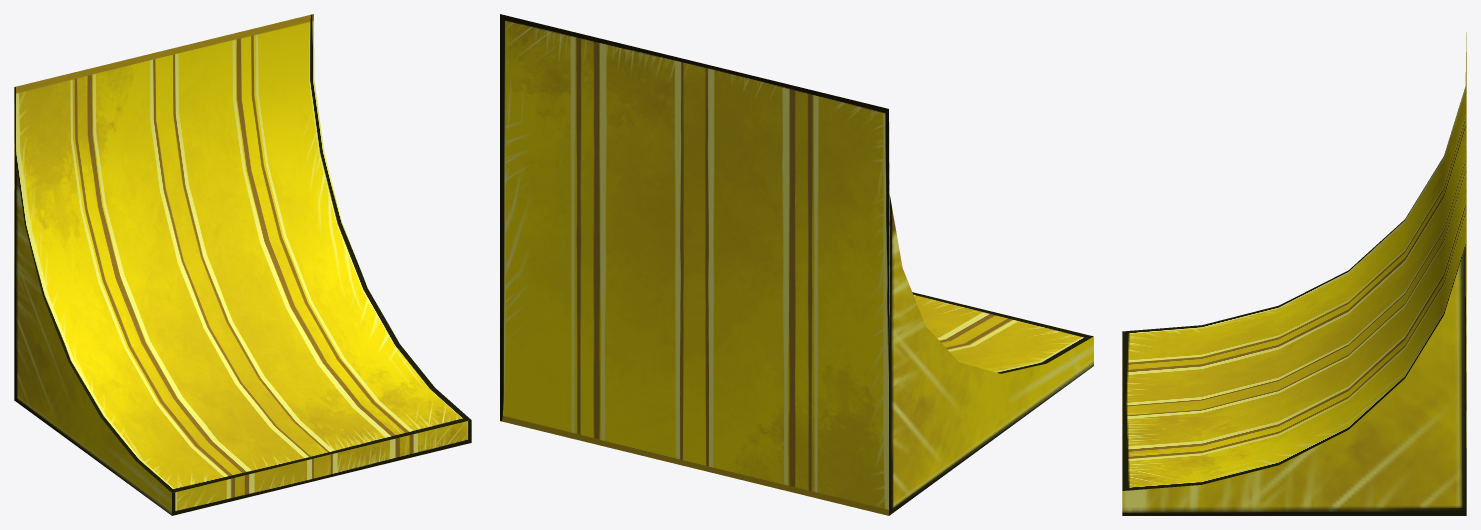
Rendered from Quarterpipe.glb.
3 views of the same model, side by side, from view 1: azimuth 30°, elevation 25°; view 2: azimuth 150°, elevation 25°; view 3: azimuth 270°, elevation 25° (orthographic). The views are drawn at different scales.
Parts seen in each view (by area): view 1: Cylinder; view 2: Plane, Cylinder; view 3: Cylinder.
Part boxes in pixels (left/top/right/bottom): Cylinder: left=14, top=14, right=471, bottom=515; Plane: left=500, top=14, right=888, bottom=515; Cylinder: left=889, top=122, right=1093, bottom=515; Cylinder: left=1122, top=32, right=1466, bottom=515.
Size of the model in its own units: 2 by 2 by 1.82.
Materials: 1 (1 with a texture image).
